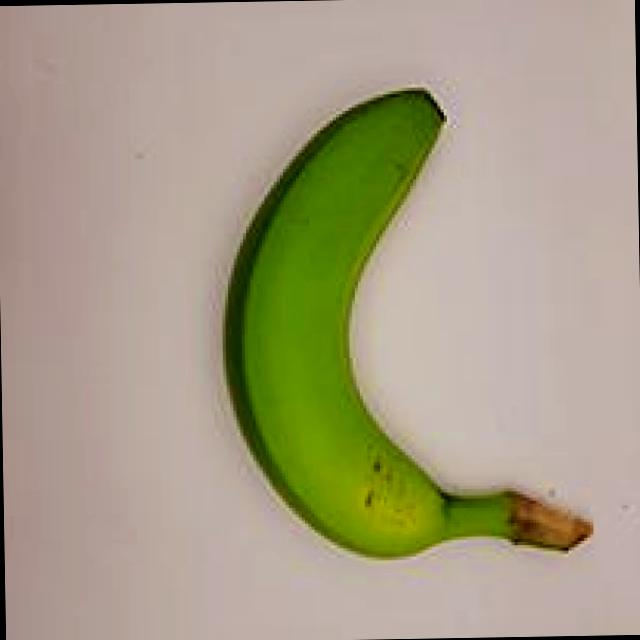Unripe: (205, 63, 604, 586)
